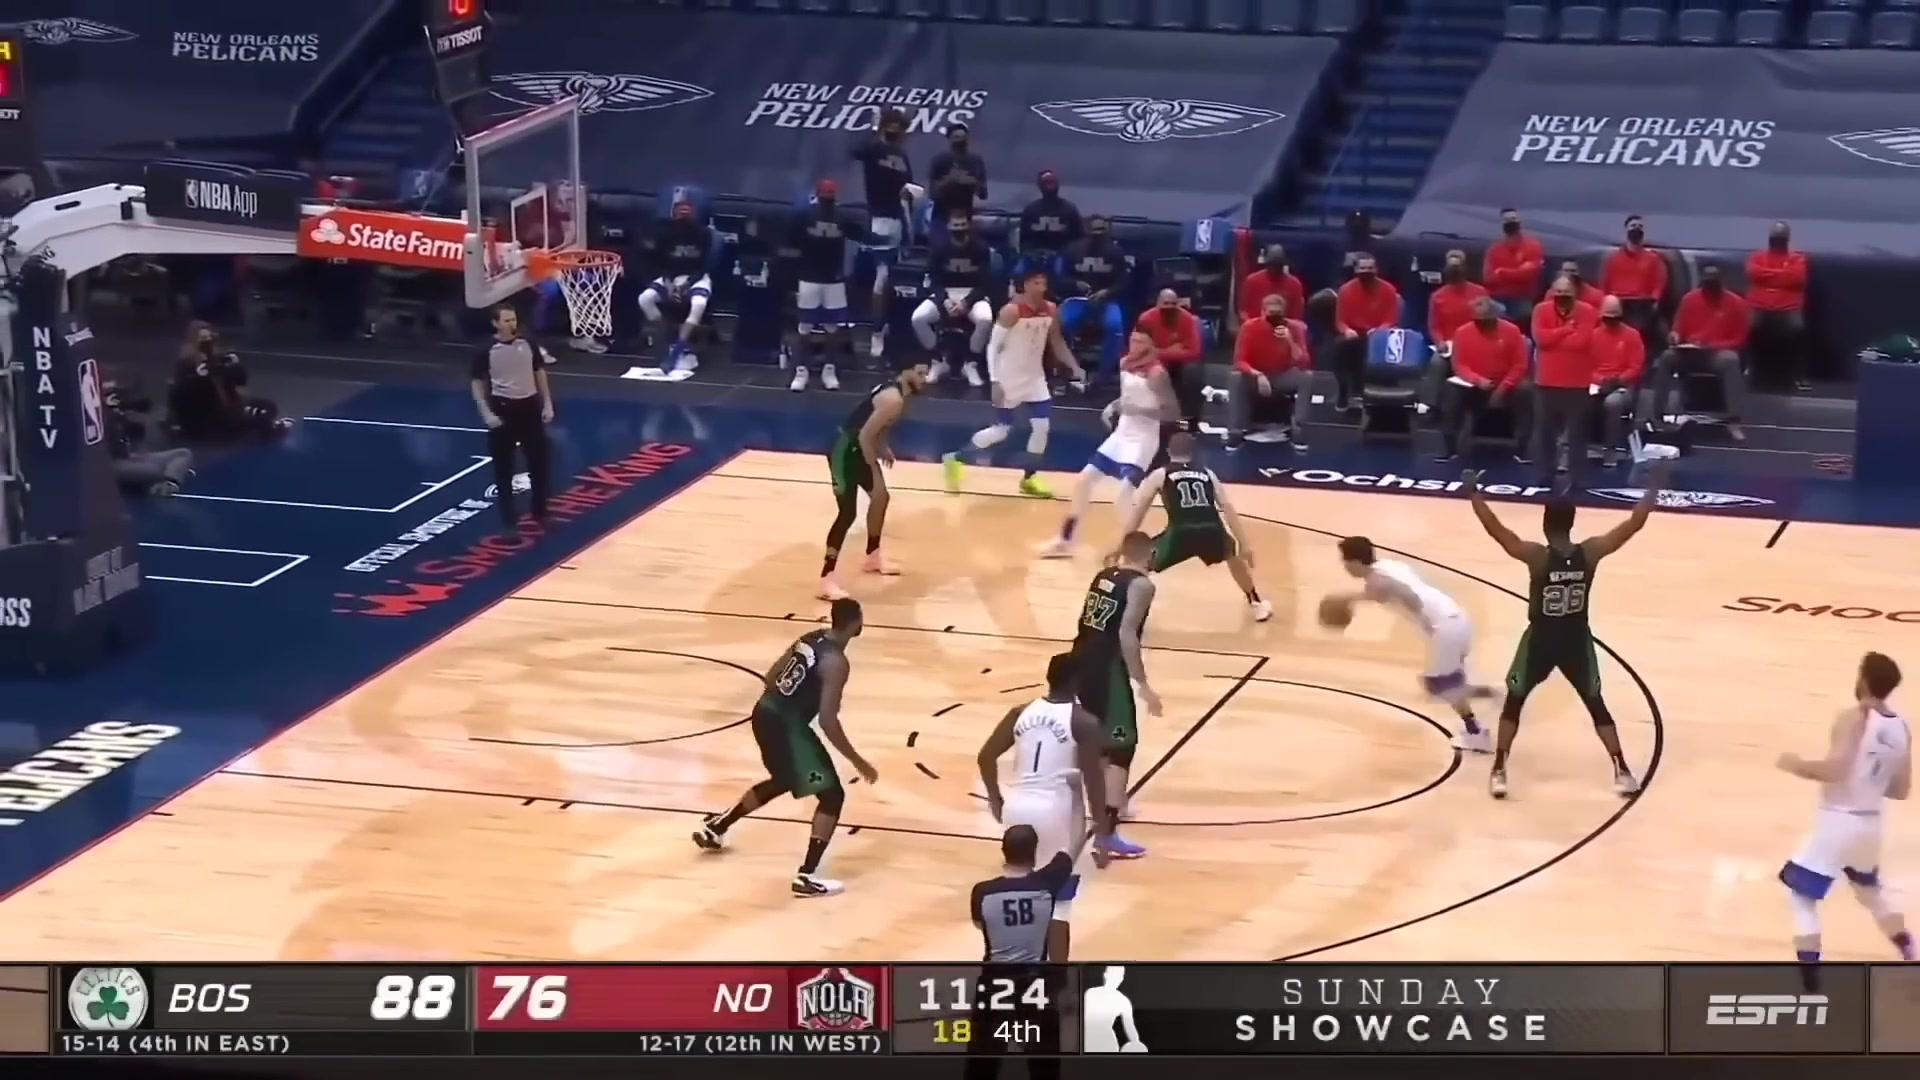foul: (1308, 481, 1651, 807)
